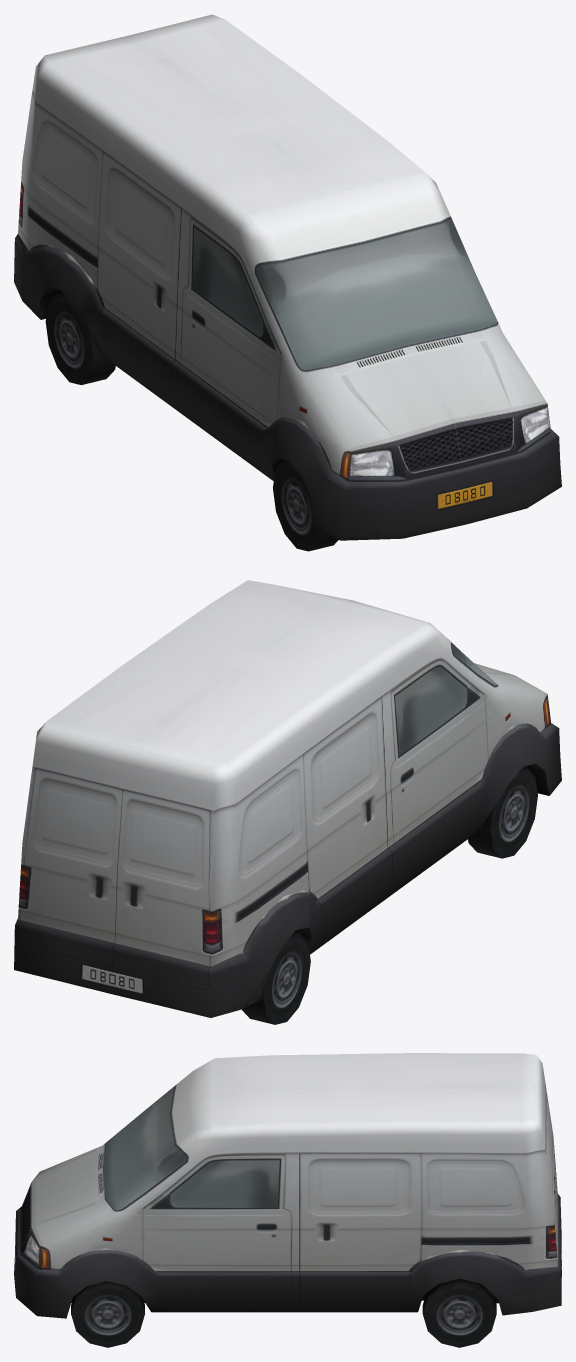
The model's file is Sun_0026_Van.fbx.
3 renders of one model, top to bottom at view 1: azimuth 30°, elevation 25°; view 2: azimuth 150°, elevation 25°; view 3: azimuth 270°, elevation 25°, orthographic. The views are drawn at different scales.
Parts seen in each view (by area): view 1: Sun_0026_Van; view 2: Sun_0026_Van; view 3: Sun_0026_Van.
Part boxes in pixels (box(x1,y1,x2,y2)): Sun_0026_Van: box(14, 14, 561, 551); Sun_0026_Van: box(14, 580, 561, 1024); Sun_0026_Van: box(14, 1053, 561, 1347).
Bounding box in the file's own units: 199 × 231 × 520.
